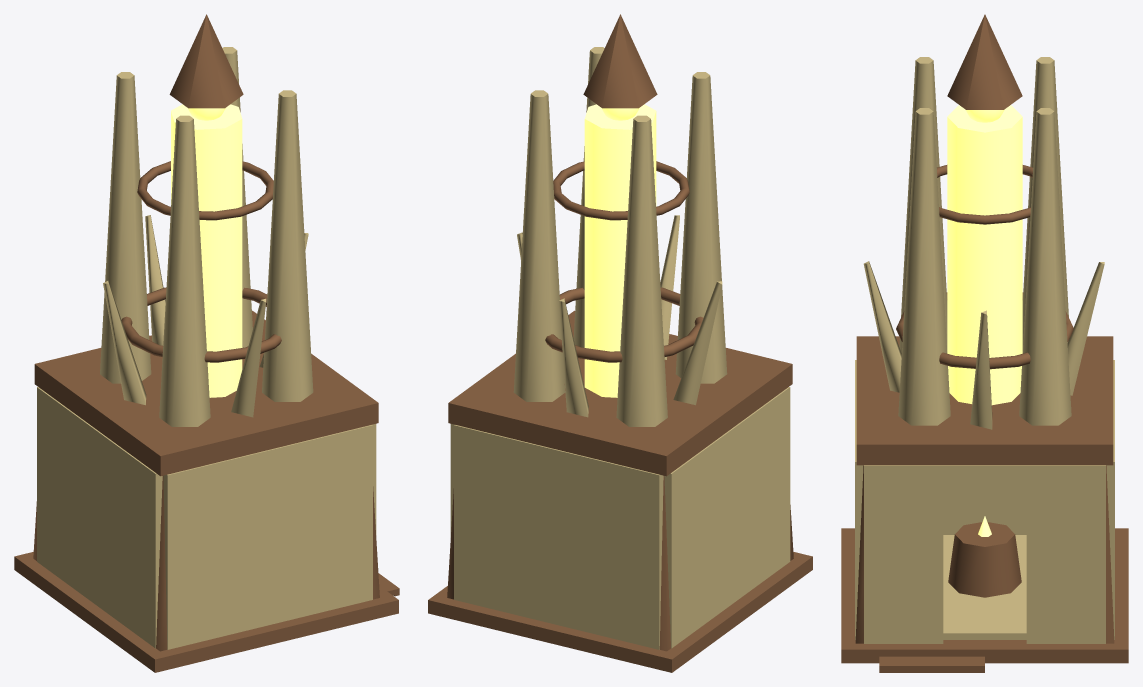
The model's file is shrine-high-lantern.glb.
The picture shows the model from 3 angles, left to right: view 1: azimuth 30°, elevation 25°; view 2: azimuth 150°, elevation 25°; view 3: azimuth 270°, elevation 25°; orthographic projection.
Visible parts, largest first — view 1: Mesh_Chamber_WallRight, Mesh_Chamber_WallBack, Mesh_SpireBase, Mesh_GlowCore, Mesh_NeedleBL, Mesh_NeedleBR, Mesh_NeedleFL, Mesh_Foundation, Mesh_SpireCap, Mesh_BindingRingHigh, Mesh_BindingRingLow, Mesh_SpireButtressB (+4 smaller); view 2: Mesh_Chamber_WallLeft, Mesh_Chamber_WallBack, Mesh_SpireBase, Mesh_GlowCore, Mesh_NeedleFL, Mesh_NeedleFR, Mesh_NeedleBL, Mesh_Foundation, Mesh_SpireCap, Mesh_BindingRingHigh, Mesh_SpireButtressB, Mesh_BindingRingLow (+4 smaller); view 3: Mesh_GlowCore, Mesh_SpireBase, Mesh_Chamber_WallFront_R, Mesh_Chamber_WallFront_L, Mesh_NeedleBR, Mesh_NeedleFR, Mesh_Foundation, Mesh_Chamber_Floor, Mesh_Altar, Mesh_Chamber_WallFront_Lintel, Mesh_SpireCap, Mesh_NeedleBL (+13 smaller).
Part boxes in pixels (x1=…): Mesh_Chamber_WallRight: x1=163, y1=424, x2=372, y2=649; Mesh_Chamber_WallBack: x1=37, y1=387, x2=162, y2=648; Mesh_SpireBase: x1=34, y1=310, x2=378, y2=476; Mesh_GlowCore: x1=171, y1=104, x2=242, y2=397; Mesh_NeedleBL: x1=159, y1=115, x2=210, y2=426; Mesh_NeedleBR: x1=262, y1=90, x2=313, y2=401; Mesh_NeedleFL: x1=100, y1=72, x2=151, y2=383; Mesh_Foundation: x1=14, y1=552, x2=398, y2=672; Mesh_SpireCap: x1=169, y1=14, x2=243, y2=108; Mesh_BindingRingHigh: x1=137, y1=161, x2=273, y2=220; Mesh_BindingRingLow: x1=121, y1=287, x2=281, y2=362; Mesh_SpireButtressB: x1=103, y1=281, x2=146, y2=405; Mesh_Chamber_WallLeft: x1=454, y1=425, x2=663, y2=649; Mesh_Chamber_WallBack: x1=664, y1=387, x2=790, y2=648; Mesh_SpireBase: x1=448, y1=310, x2=792, y2=476; Mesh_GlowCore: x1=584, y1=104, x2=656, y2=397; Mesh_NeedleFL: x1=616, y1=115, x2=667, y2=426; Mesh_NeedleFR: x1=513, y1=90, x2=565, y2=401; Mesh_NeedleBL: x1=675, y1=72, x2=727, y2=383; Mesh_Foundation: x1=428, y1=552, x2=812, y2=672; Mesh_SpireCap: x1=583, y1=14, x2=657, y2=108; Mesh_BindingRingHigh: x1=553, y1=161, x2=689, y2=220; Mesh_SpireButtressB: x1=673, y1=281, x2=722, y2=405; Mesh_BindingRingLow: x1=545, y1=287, x2=703, y2=362; Mesh_GlowCore: x1=947, y1=105, x2=1022, y2=405; Mesh_SpireBase: x1=856, y1=336, x2=1113, y2=465; Mesh_Chamber_WallFront_R: x1=864, y1=465, x2=943, y2=643; Mesh_Chamber_WallFront_L: x1=1026, y1=465, x2=1105, y2=643; Mesh_NeedleBR: x1=898, y1=108, x2=950, y2=425; Mesh_NeedleFR: x1=1019, y1=108, x2=1071, y2=425; Mesh_Foundation: x1=841, y1=528, x2=1128, y2=663; Mesh_Chamber_Floor: x1=943, y1=535, x2=1026, y2=639; Mesh_Altar: x1=948, y1=522, x2=1021, y2=597; Mesh_Chamber_WallFront_Lintel: x1=942, y1=465, x2=1027, y2=513; Mesh_SpireCap: x1=947, y1=14, x2=1022, y2=109; Mesh_NeedleBL: x1=899, y1=57, x2=947, y2=353.
Size of the model in its own units: 4.1 by 8.6 by 3.8.
Materials: 3 (3 with a texture image).
